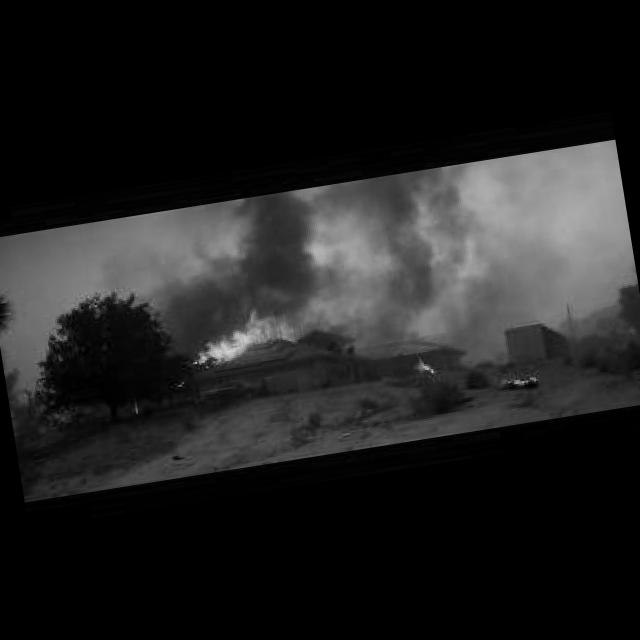Smoke: (163, 163, 499, 371)
